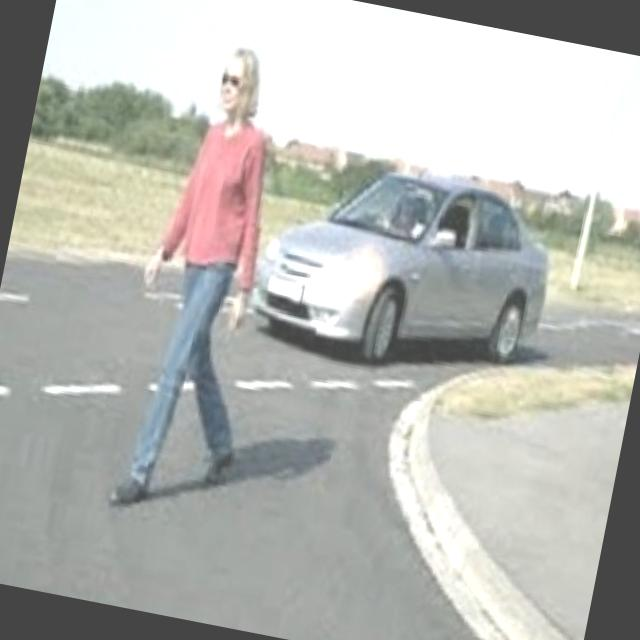Person: (92, 29, 321, 532)
